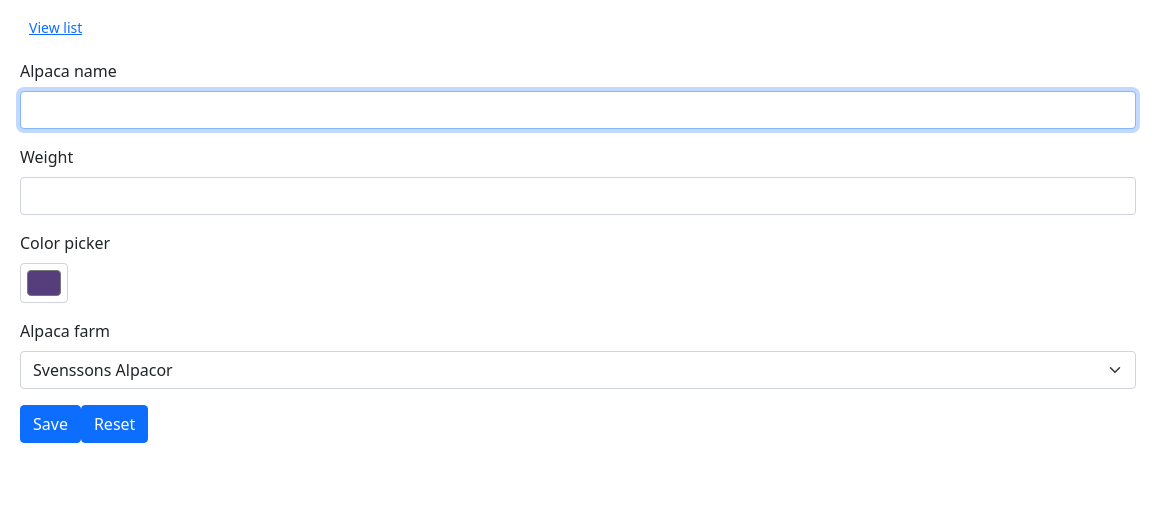
it: FormView › Behaviour › should display error messages for required fields
This screenshot has width=1157, height=510.
Click the button "Save": point(50, 424) [20,405,81,443]
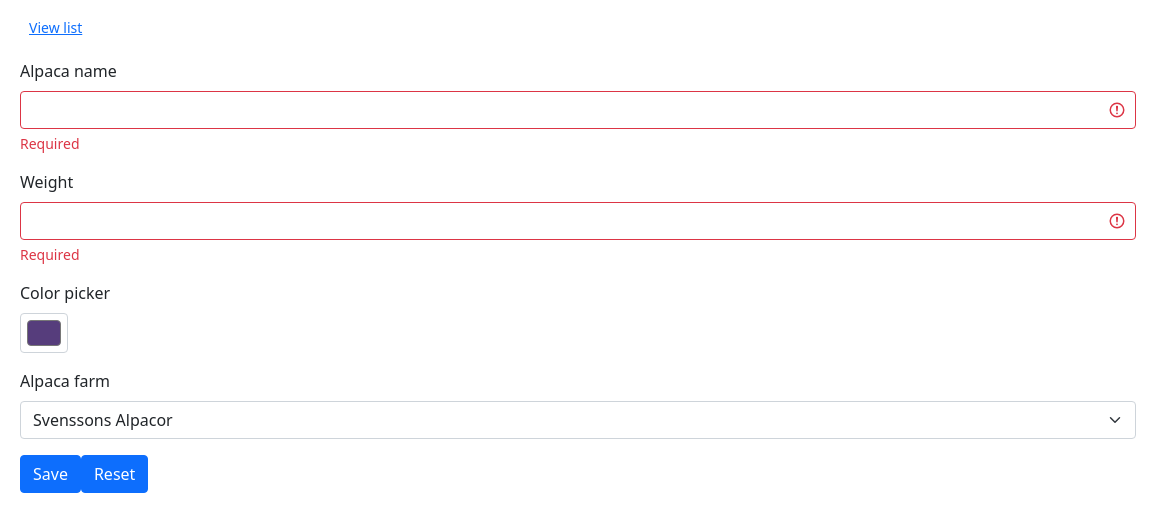
Expected: the text "Required" below "Alpaca name" is shown, [20,134,80,153]
Expected: the text "Required" below "Weight" is shown, [20,245,80,264]
